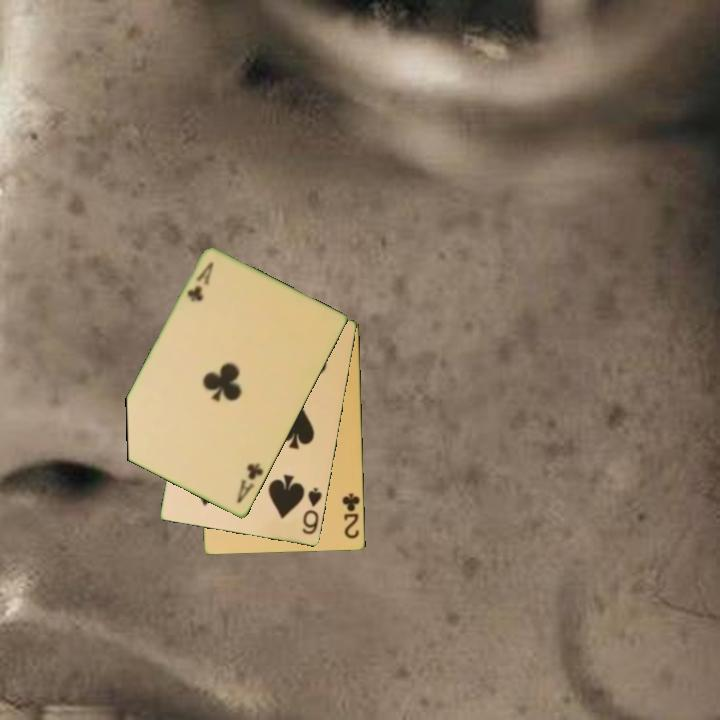2c: (339, 490, 362, 542)
6s: (299, 485, 325, 538)
Ac: (233, 460, 267, 507), (183, 258, 217, 305)
